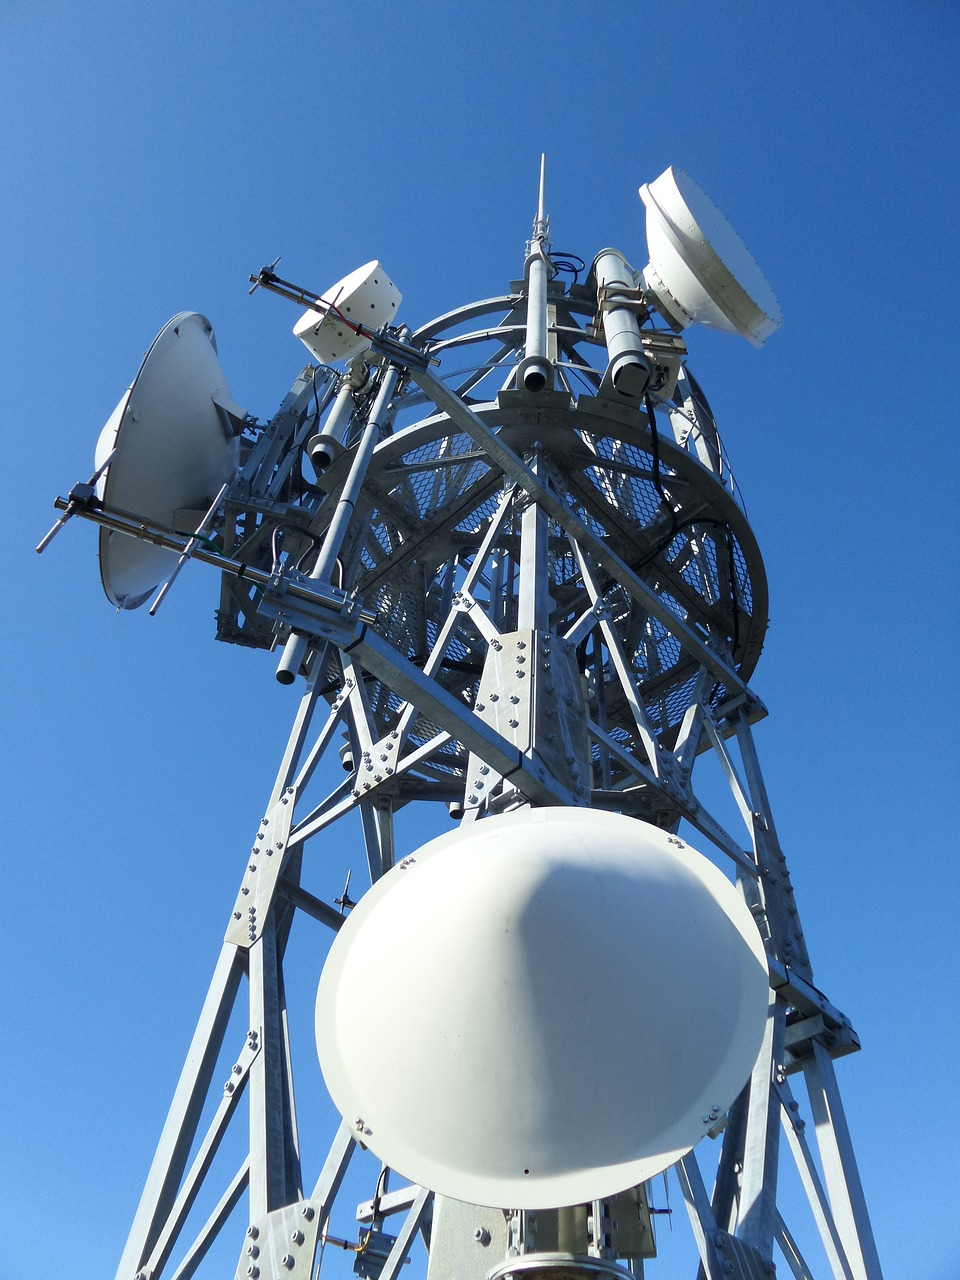b: (644, 165, 789, 344), (292, 262, 395, 357)
